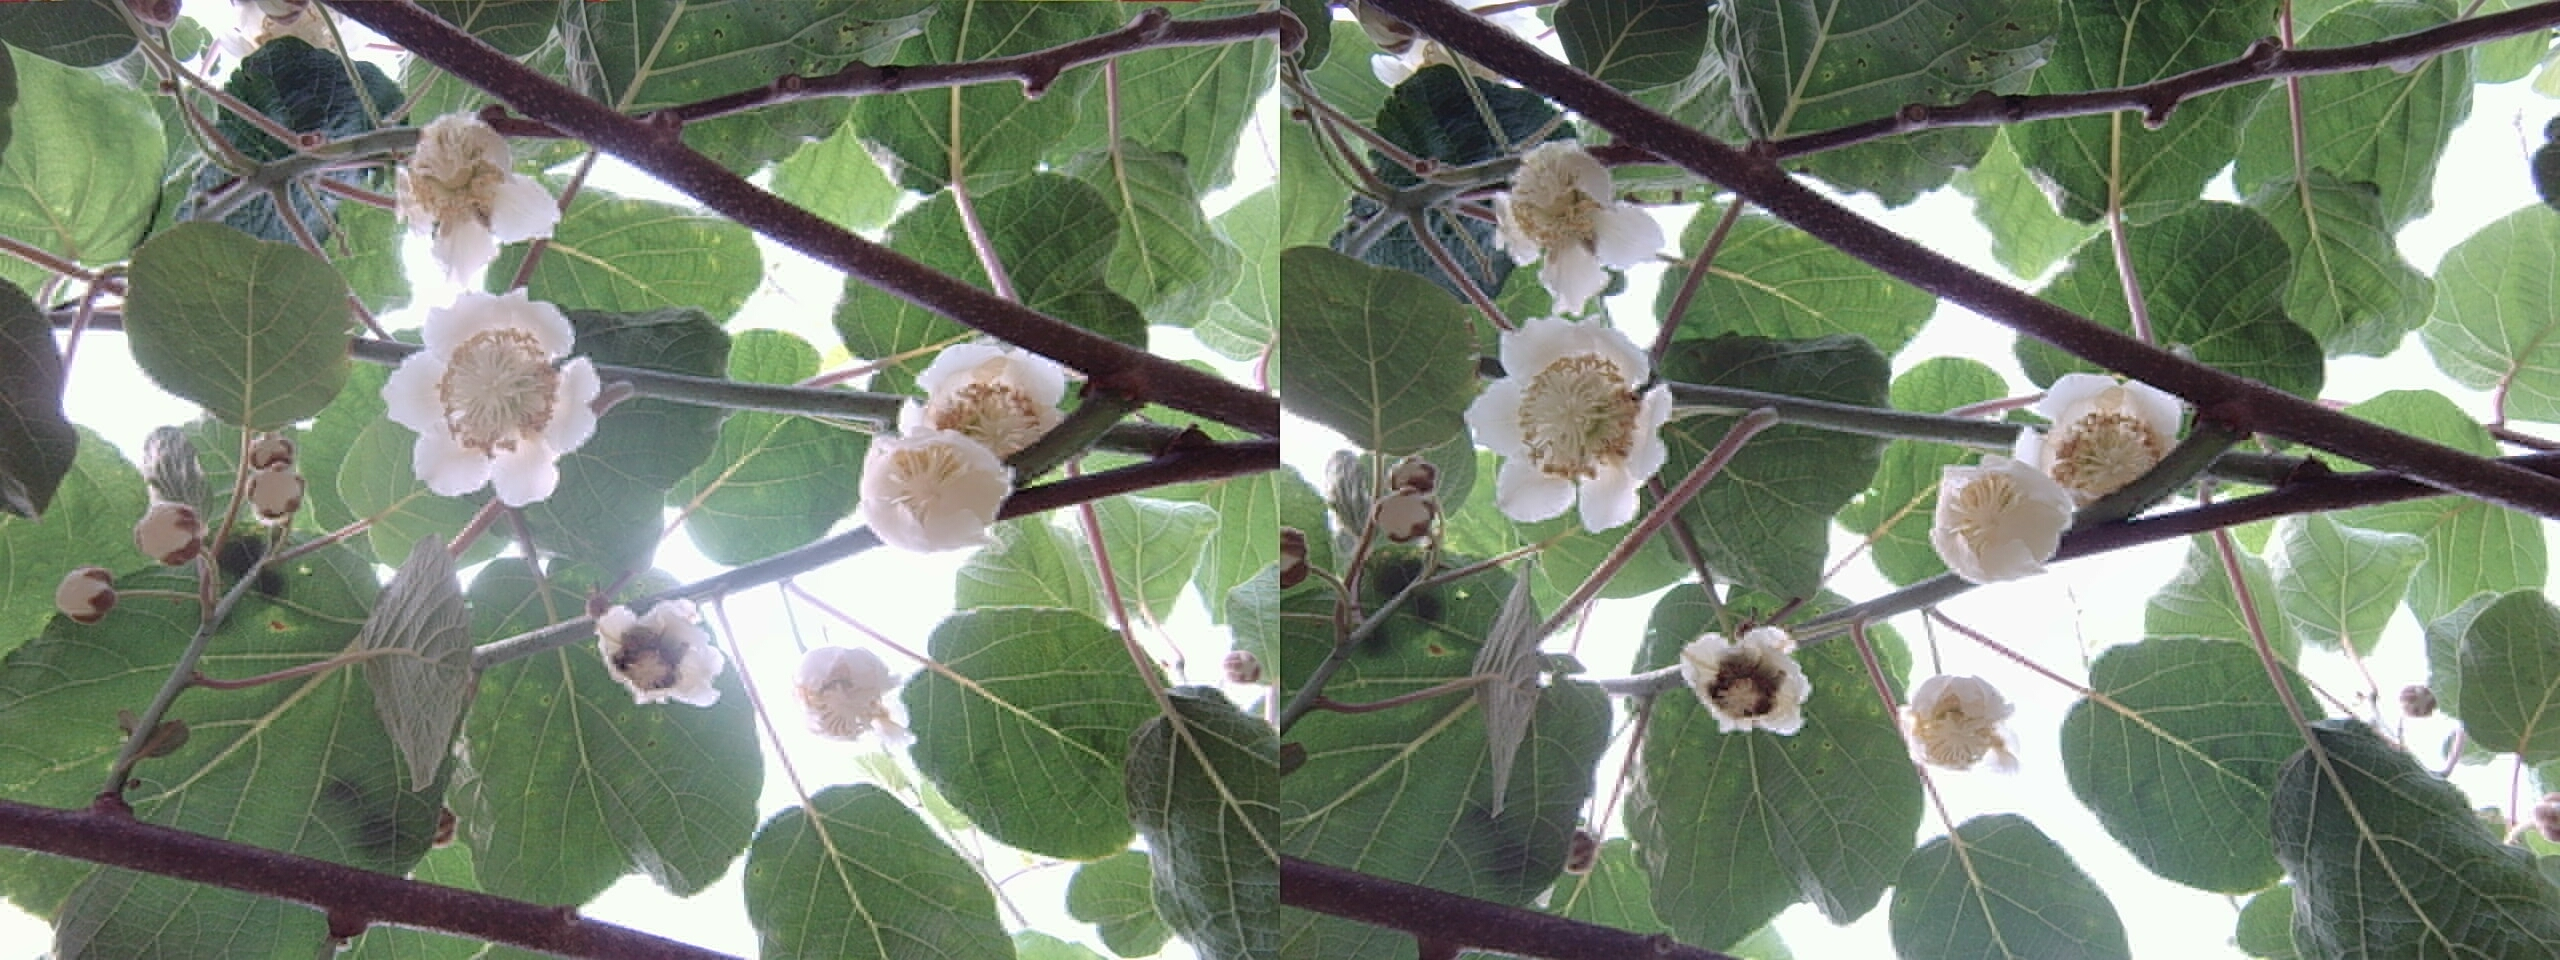flower: (371, 269, 616, 504), (1460, 309, 1677, 522), (1478, 132, 1664, 317), (374, 101, 553, 287), (2021, 376, 2184, 518), (857, 411, 1017, 550), (1928, 446, 2067, 581), (909, 344, 1064, 465), (1673, 616, 1807, 736), (584, 594, 722, 704), (785, 642, 918, 749), (1896, 668, 2023, 771)
